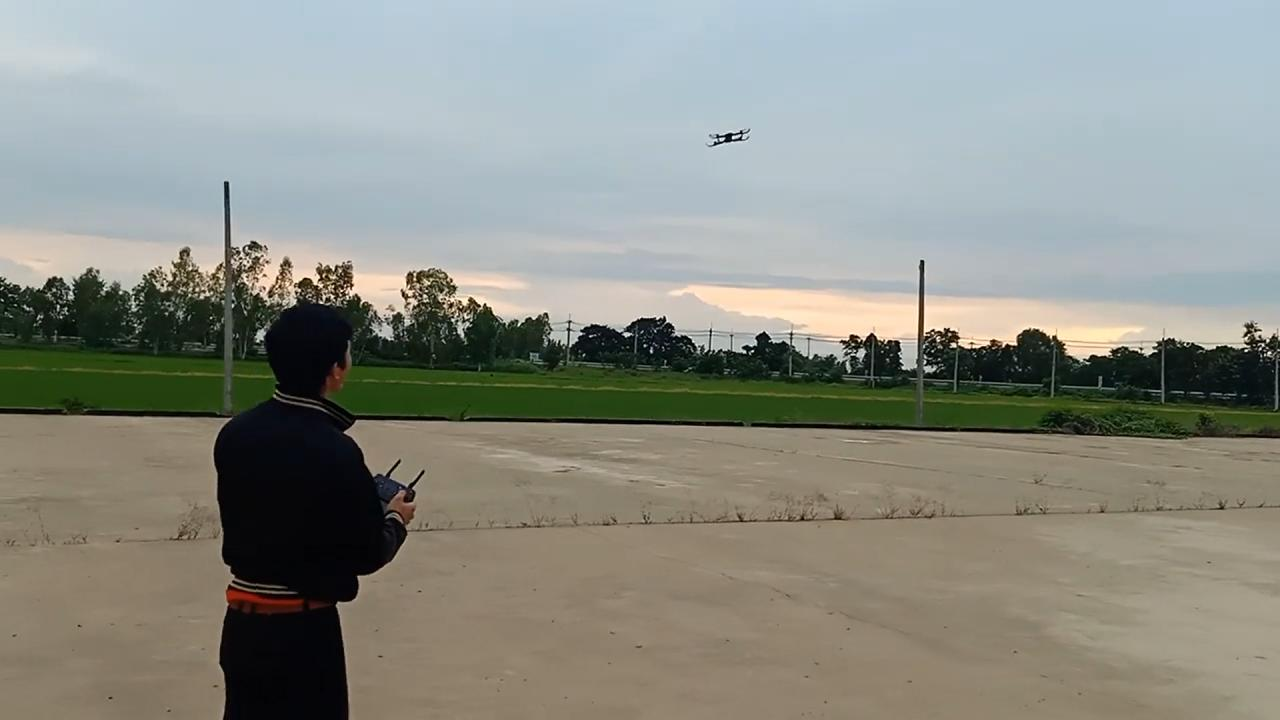Drone: (700, 120, 761, 154)
